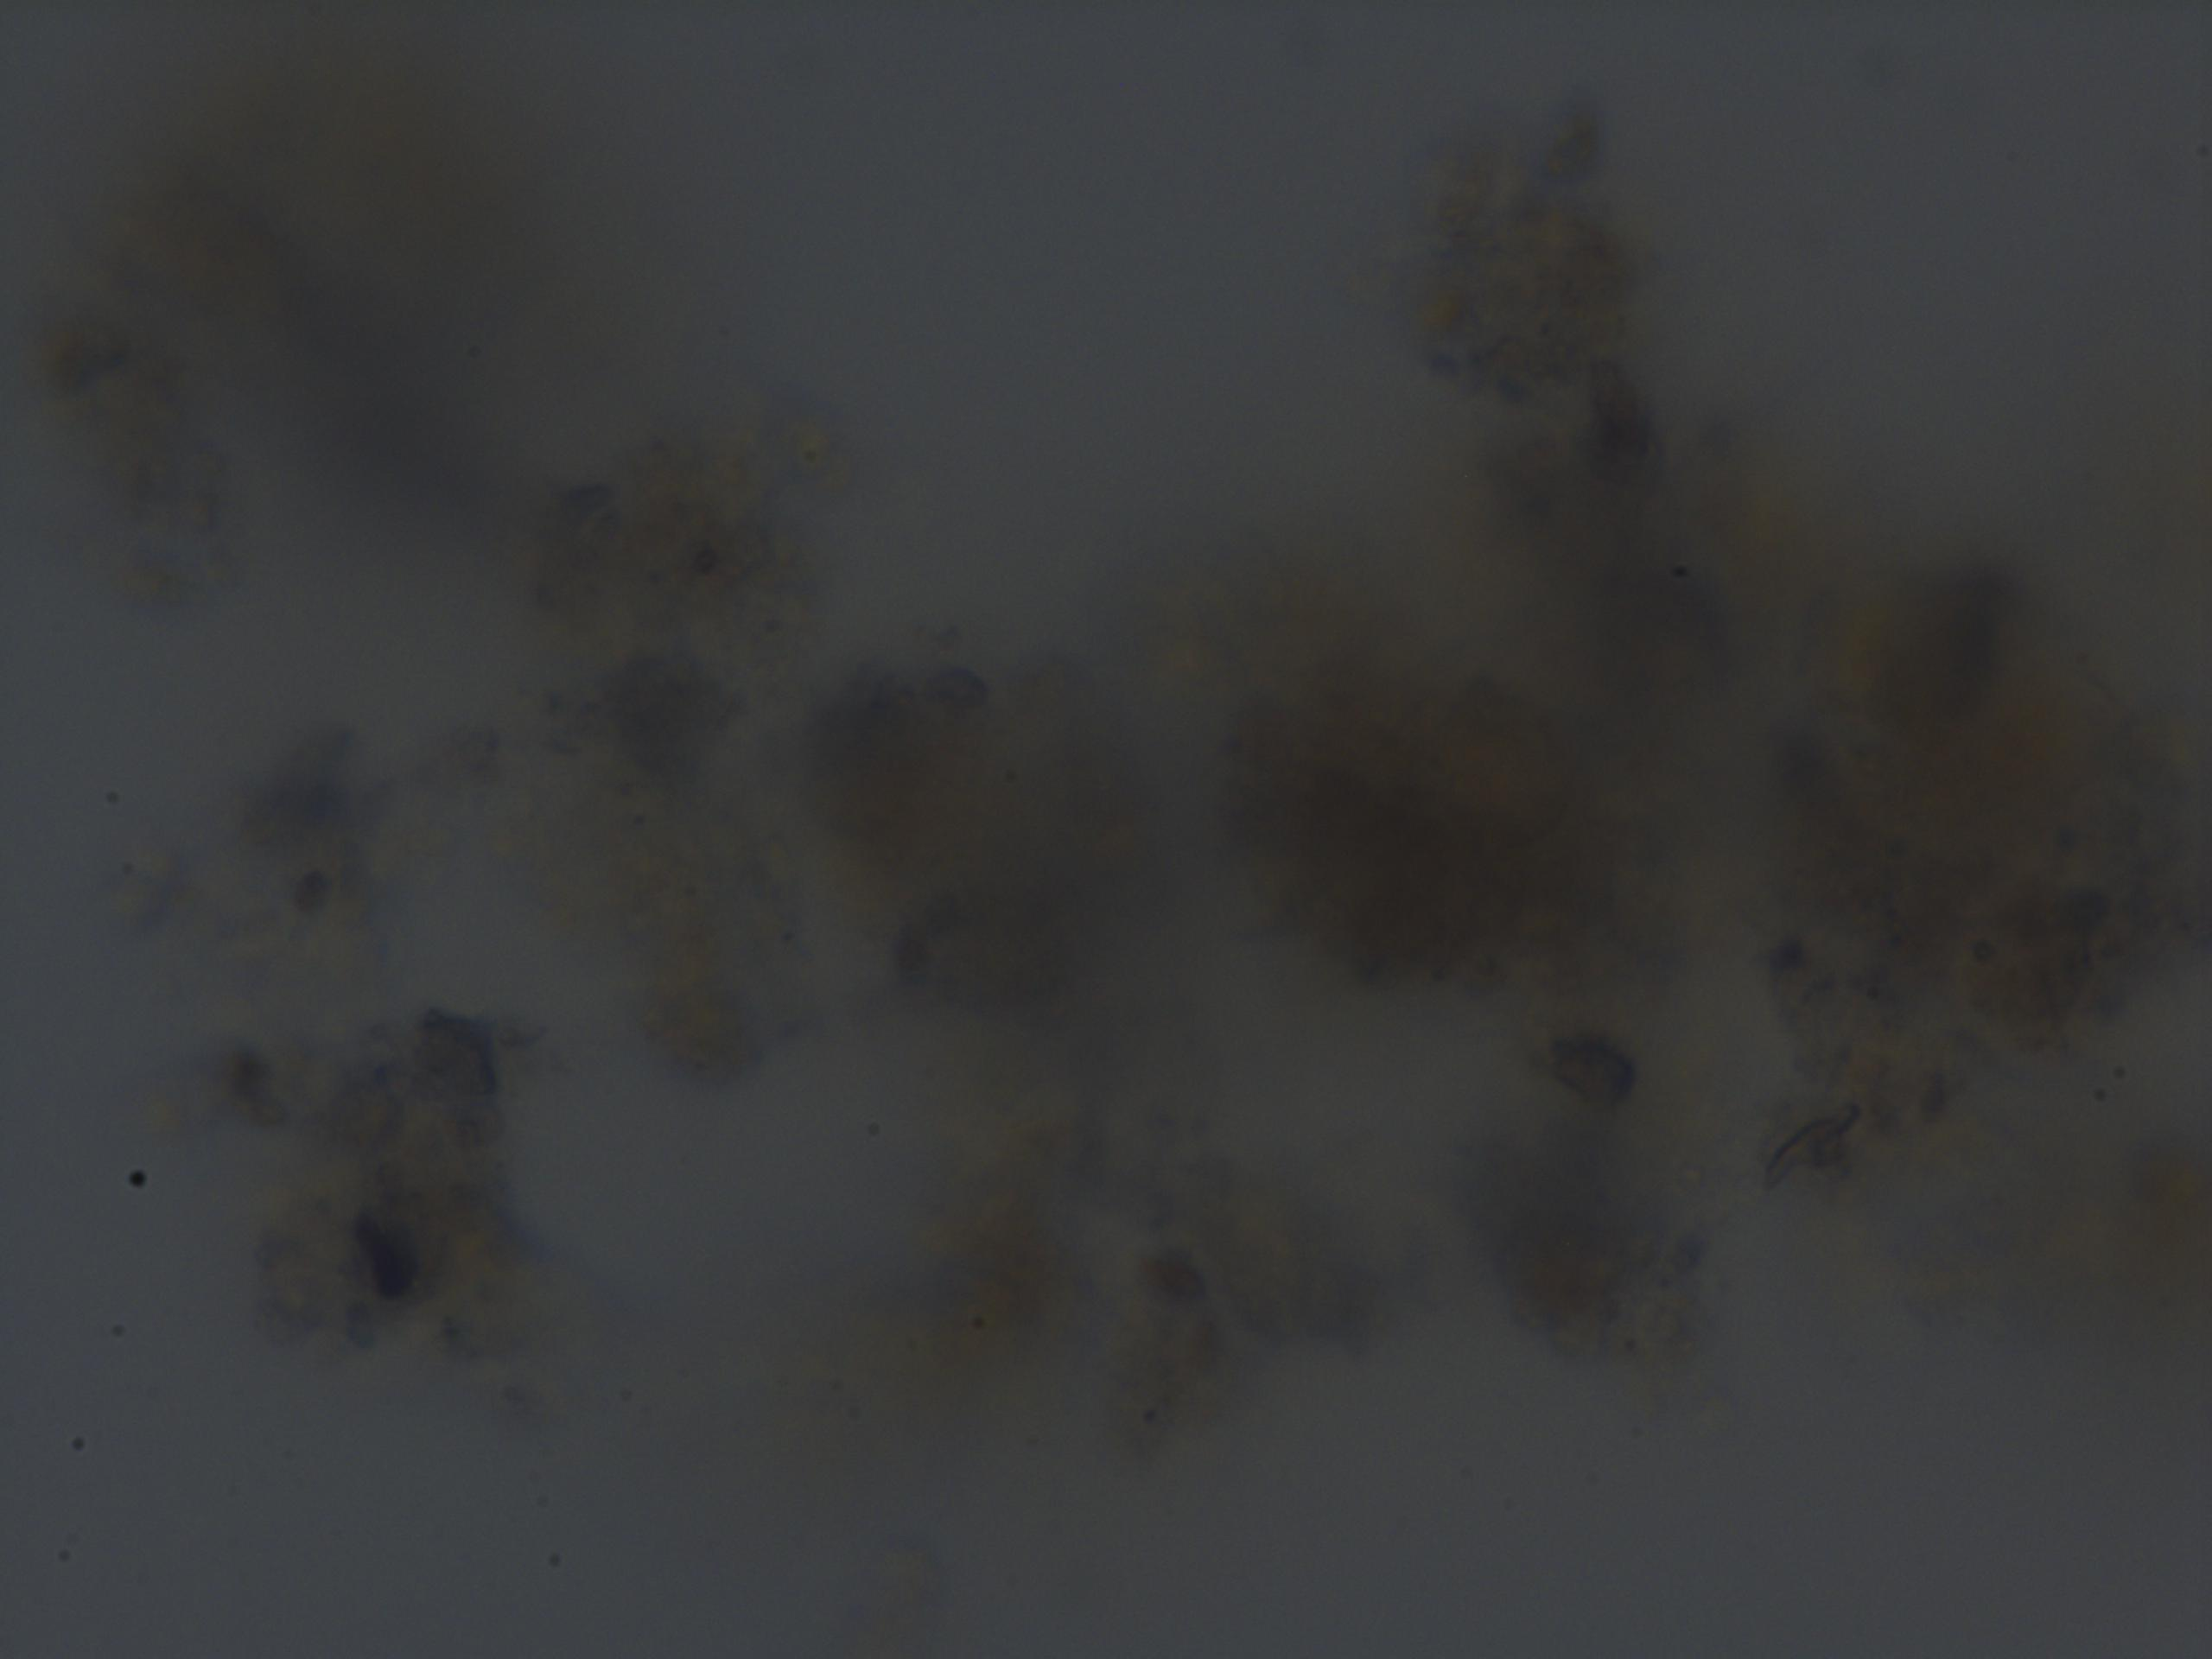open_floc: (132, 127, 2212, 1425)
